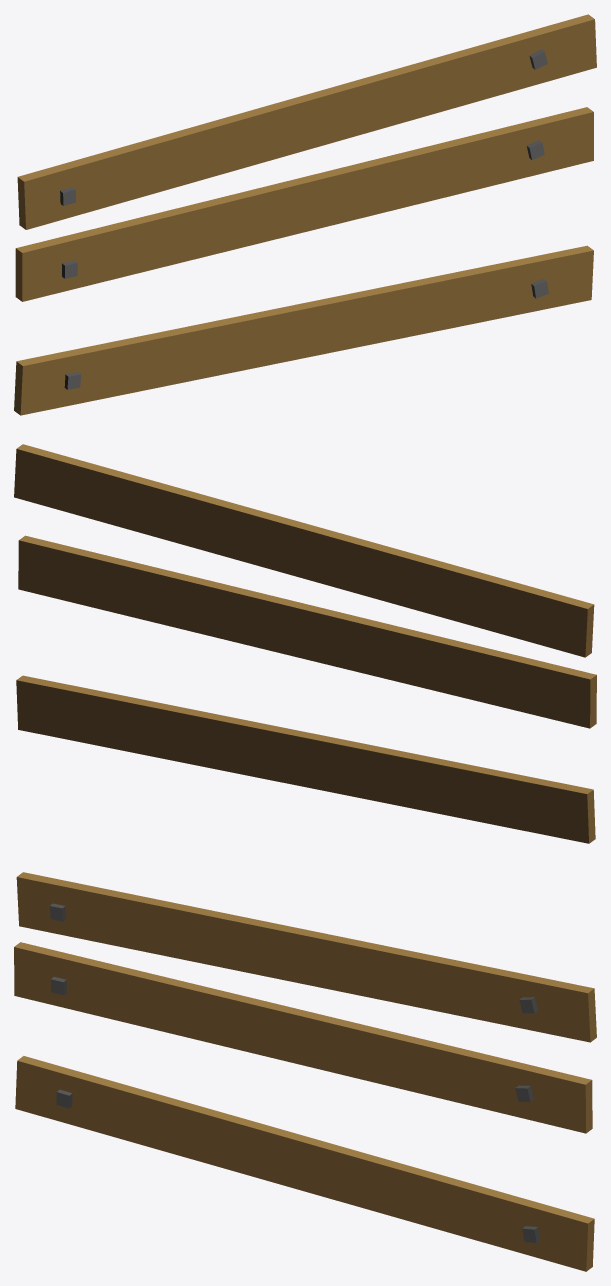
File: SA_Bld_OfficeOld_Defence_01.gltf
The picture shows the model from 3 angles, top to bottom: view 1: azimuth 30°, elevation 25°; view 2: azimuth 150°, elevation 25°; view 3: azimuth 330°, elevation 25°; orthographic projection.
Parts seen in each view (by area): view 1: SA_Bld_OfficeOld_Defence_01; view 2: SA_Bld_OfficeOld_Defence_01; view 3: SA_Bld_OfficeOld_Defence_01.
Boxes of the visible parts, left/top/right/bottom form: SA_Bld_OfficeOld_Defence_01: left=14, top=14, right=596, bottom=415; SA_Bld_OfficeOld_Defence_01: left=14, top=444, right=596, bottom=843; SA_Bld_OfficeOld_Defence_01: left=14, top=872, right=596, bottom=1271.
Size of the model in its own units: 4.77 by 2.22 by 0.1707.
1 material, 1 textured.
